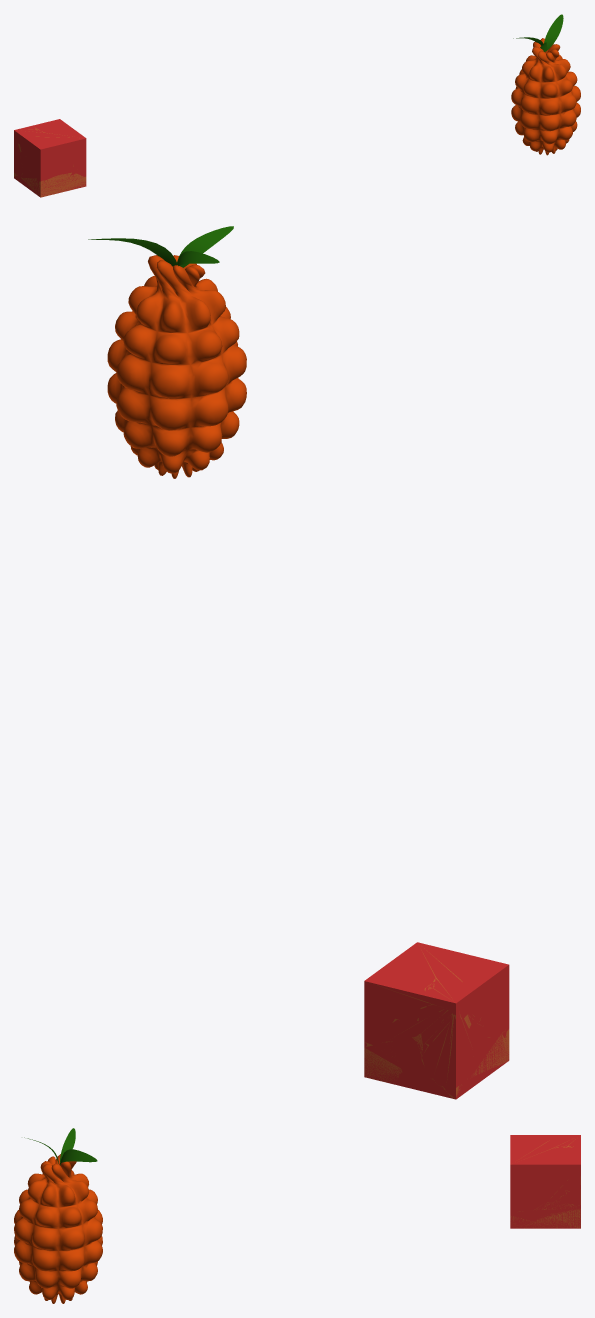
The model's file is fruitgrenade.fbx.
3 views of the same model, one above another, from view 1: azimuth 30°, elevation 25°; view 2: azimuth 150°, elevation 25°; view 3: azimuth 270°, elevation 25° (orthographic). The views are drawn at different scales.
Parts seen in each view (by area): view 1: Sphere, Cube.001, Cube.012, Cube.021, Plane.001, Cube.008; view 2: Sphere, Cube.001, Cube.021, Cube.008, Cube.010, Cube.012, Cube.009; view 3: Sphere, Cube.001, Cube.021, Cube.012, Cube.006, Cube.010, Plane.001.
Boxes of the visible parts, x1,y1,x2,y2 form: Sphere: (511,38,580,155); Cube.001: (14,125,86,180); Cube.012: (14,165,86,197); Cube.021: (14,168,86,197); Plane.001: (543,14,563,51); Cube.008: (14,138,26,176); Sphere: (107,255,246,478); Cube.001: (381,942,509,1079); Cube.021: (364,1022,509,1099); Cube.008: (421,1010,482,1087); Cube.010: (364,977,435,1022); Cube.012: (364,1029,509,1097); Cube.009: (364,1011,418,1045); Sphere: (14,1154,102,1303); Cube.001: (510,1135,580,1215); Cube.021: (510,1199,580,1228); Cube.012: (510,1200,580,1228); Cube.006: (546,1158,578,1195); Cube.010: (552,1145,580,1194); Plane.001: (60,1149,97,1165).
Size of the model in its own units: 1596 by 865 by 1607.
